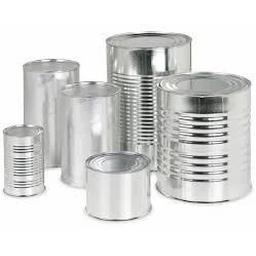metal: (146, 64, 256, 222), (76, 148, 161, 223), (1, 114, 61, 204)
